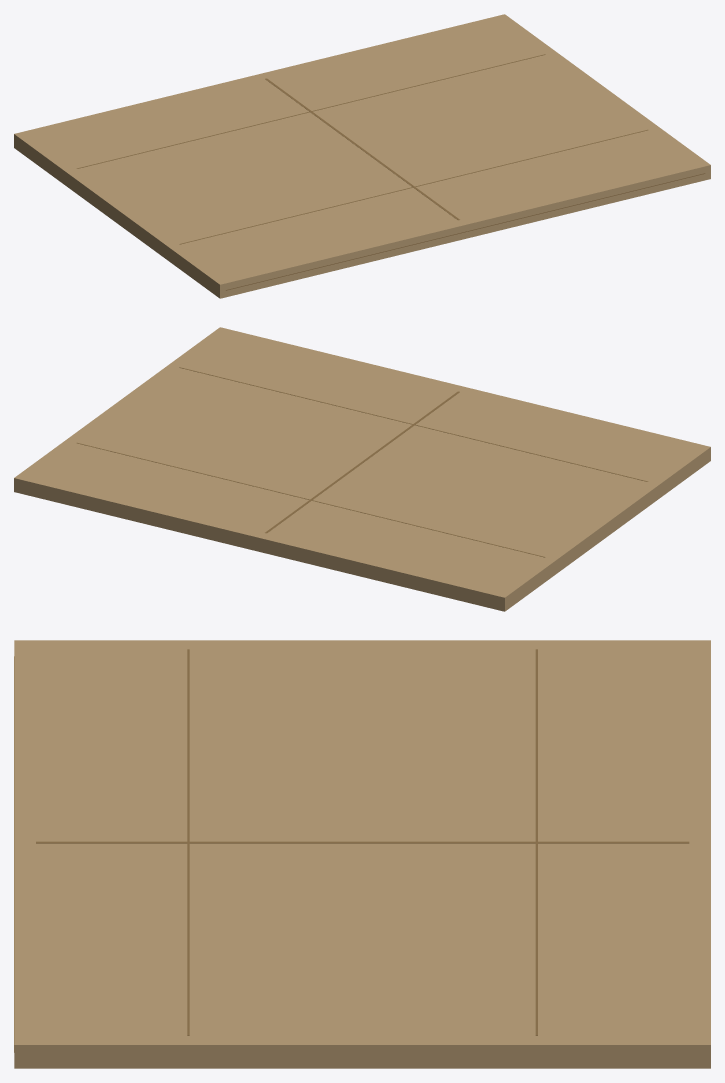
The model's file is paper.glb.
3 views of the same model, one above another, from view 1: azimuth 30°, elevation 25°; view 2: azimuth 150°, elevation 25°; view 3: azimuth 270°, elevation 25° (orthographic). The views are drawn at different scales.
Visible parts, largest first — view 1: FlatFoldedCarton, ScoreLine_0.08, ScoreLine_-0.08, VisibleFoldedEdge, FoldLapSeam; view 2: FlatFoldedCarton, ScoreLine_-0.08, ScoreLine_0.08, FoldLapSeam; view 3: FlatFoldedCarton, FoldLapSeam, ScoreLine_-0.08, ScoreLine_0.08.
Boxes of the visible parts, x1,y1,x2,y2 form: FlatFoldedCarton: (14, 14, 710, 298); ScoreLine_0.08: (179, 129, 648, 244); ScoreLine_-0.08: (76, 54, 545, 168); VisibleFoldedEdge: (225, 173, 705, 290); FoldLapSeam: (265, 78, 459, 220); FlatFoldedCarton: (14, 327, 710, 611); ScoreLine_-0.08: (76, 442, 545, 557); ScoreLine_0.08: (179, 367, 648, 481); FoldLapSeam: (265, 391, 459, 533); FlatFoldedCarton: (14, 640, 710, 1068); FoldLapSeam: (36, 841, 689, 843); ScoreLine_-0.08: (535, 649, 537, 1035); ScoreLine_0.08: (187, 649, 189, 1035).
Size of the model in its own units: 0.44 by 0.0121 by 0.3201.
